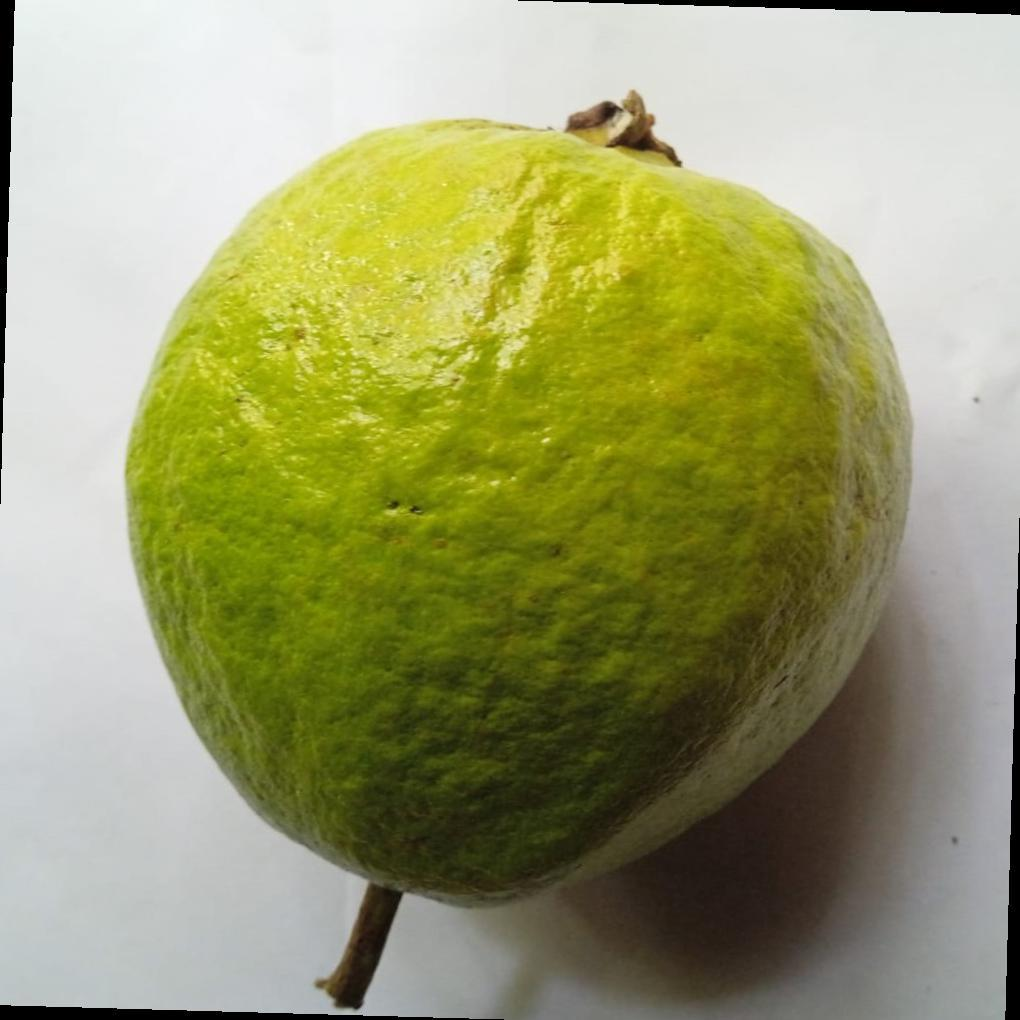FreshGuava: (122, 102, 914, 913)
